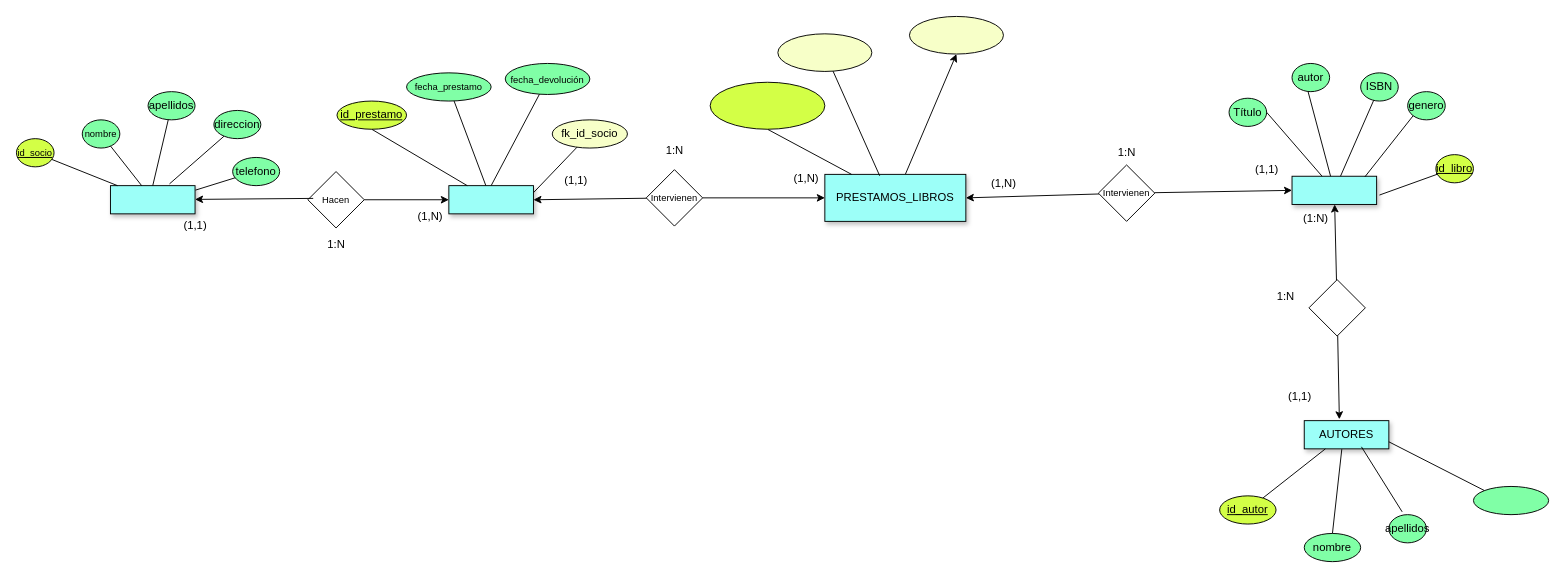
Image size: 1565x578. Some labels were removed from this diagram. The shapes that lost their labels are listed below. From the top down, each one's centre as x and y in pixels, then its label:
(x=824, y=52): fk_id_libro
(x=956, y=35): fk_id_prestamo
(x=767, y=105): id_prestamo_libro
(x=153, y=200): SOCIOS
(x=491, y=200): PRESTAMOS
(x=1334, y=191): LIBROS
(x=1336, y=307): Escrito por
(x=1511, y=500): nacionalidad
